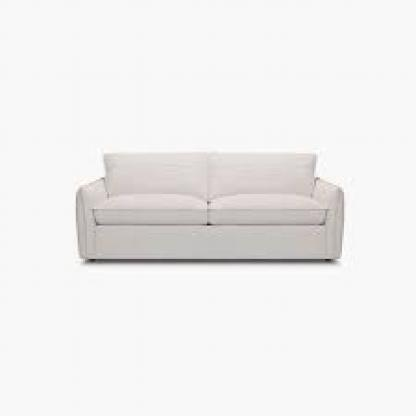sofa: (74, 148, 346, 268)
